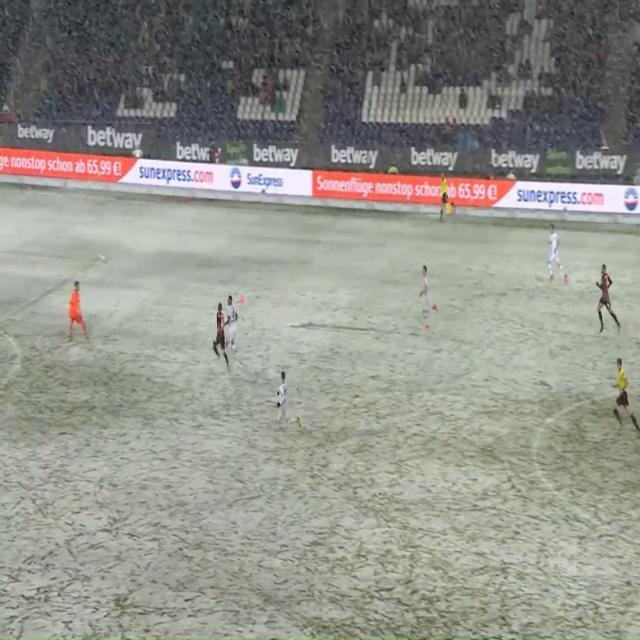ball: (236, 292, 250, 307)
player: (592, 261, 623, 338), (274, 365, 303, 436), (416, 257, 442, 336), (65, 273, 91, 349), (543, 219, 571, 289), (208, 300, 227, 371), (224, 296, 237, 369)
referee: (609, 356, 640, 441), (437, 165, 459, 227)
